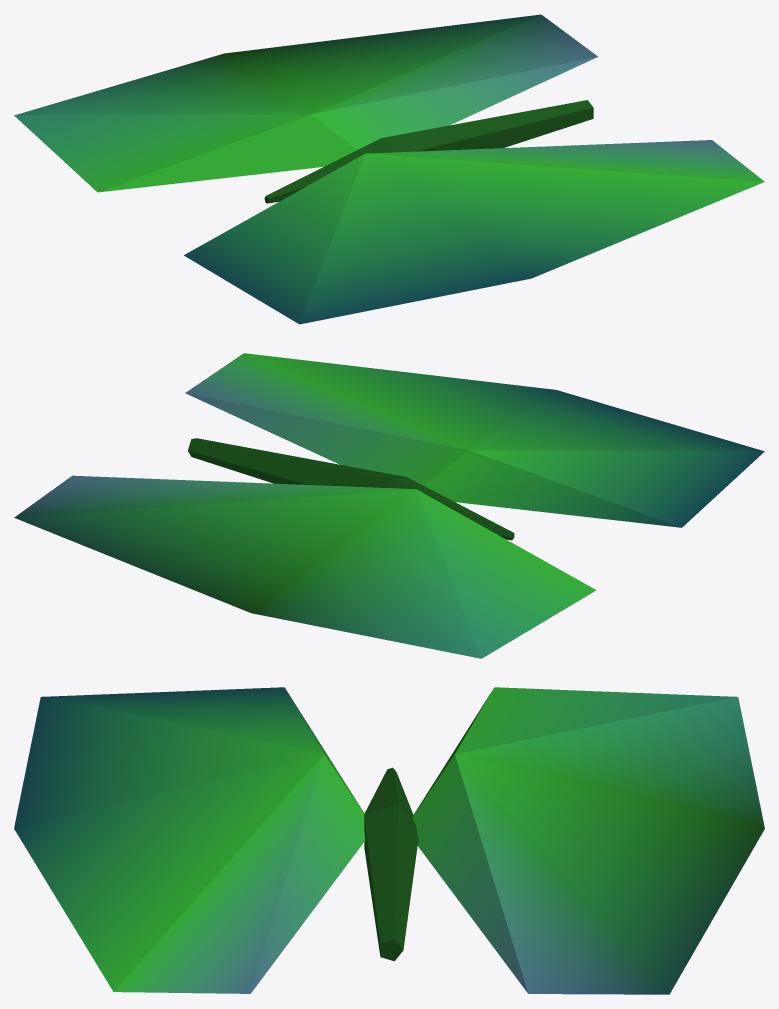
The model's file is butterflyF.fbx.
3 renders of one model, top to bottom at view 1: azimuth 30°, elevation 25°; view 2: azimuth 150°, elevation 25°; view 3: azimuth 270°, elevation 25°, orthographic. The views are drawn at different scales.
Visible parts, largest first — view 1: butterfly00; view 2: butterfly00; view 3: butterfly00.
Part boxes in pixels (bbox=[...]): butterfly00: bbox=[14, 14, 764, 324]; butterfly00: bbox=[14, 353, 764, 658]; butterfly00: bbox=[14, 687, 764, 994].
Bounding box in the file's own units: 142 × 16.21 × 147.
